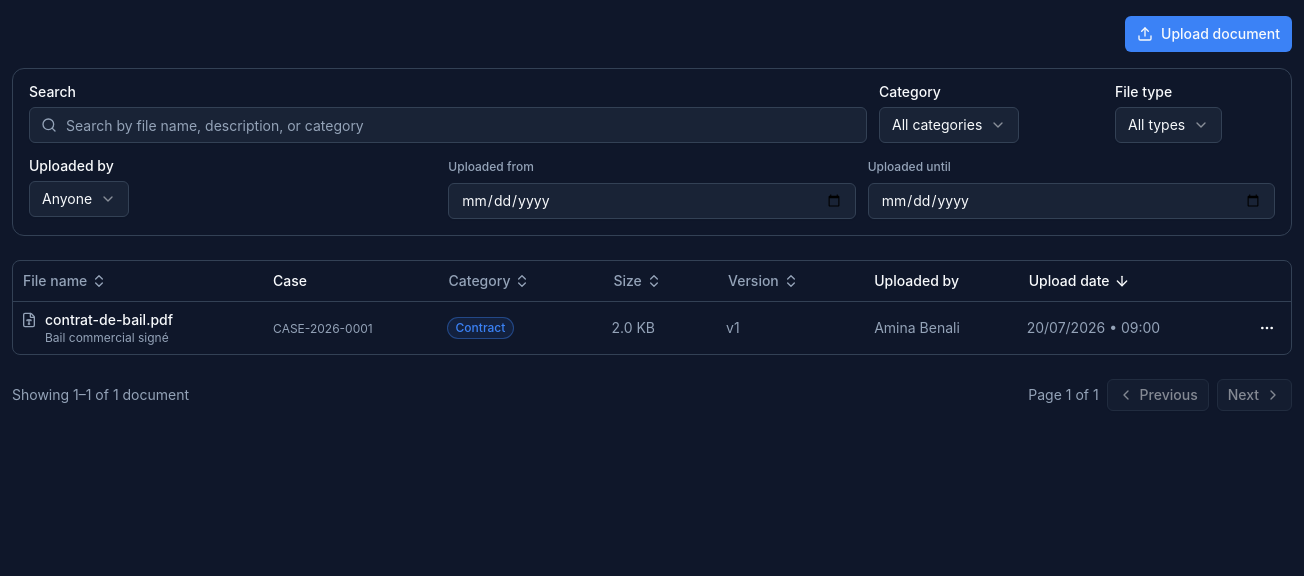
Test: DocumentList row actions › offers Replace and Delete to an administrator
Expected: the button "contrat-de-bail.pdf" is shown, x1=45 y1=310 x2=173 y2=330
What coordinates should you click on to do the following:
click the button named "Actions for contrat-de-bail.pdf"
I would click on:
 (1267, 328)
Its box is x1=1251 y1=312 x2=1283 y2=344.
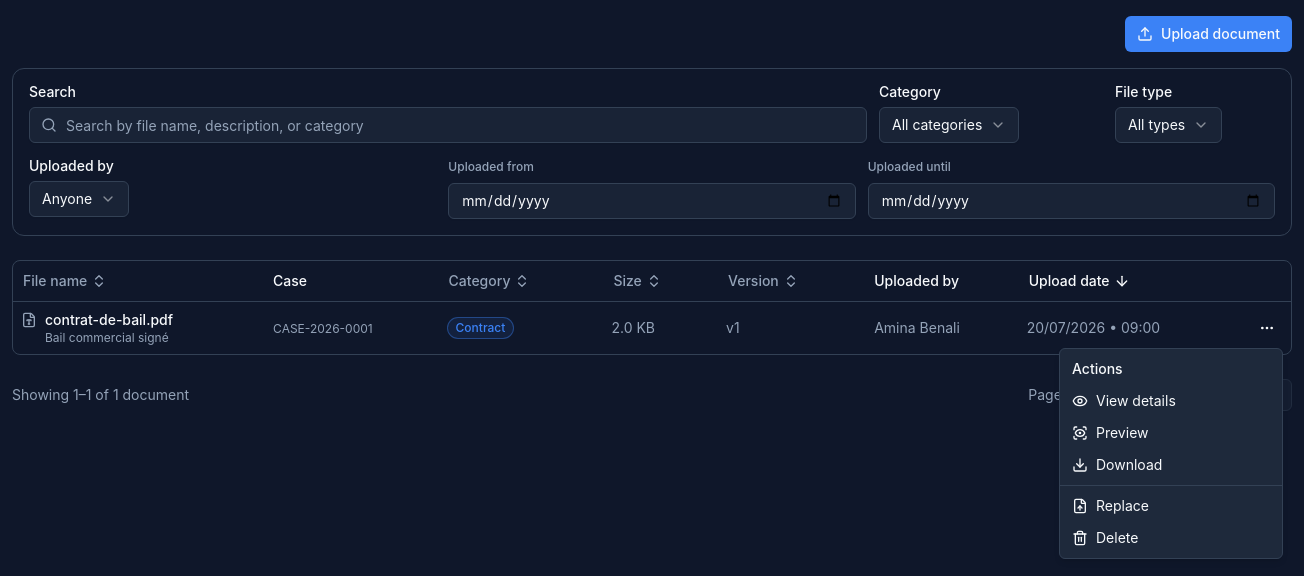
Expected: the menu item "Replace" is shown, x1=1072 y1=497 x2=1149 y2=514
Expected: the menu item "Delete" is shown, x1=1072 y1=529 x2=1138 y2=546
